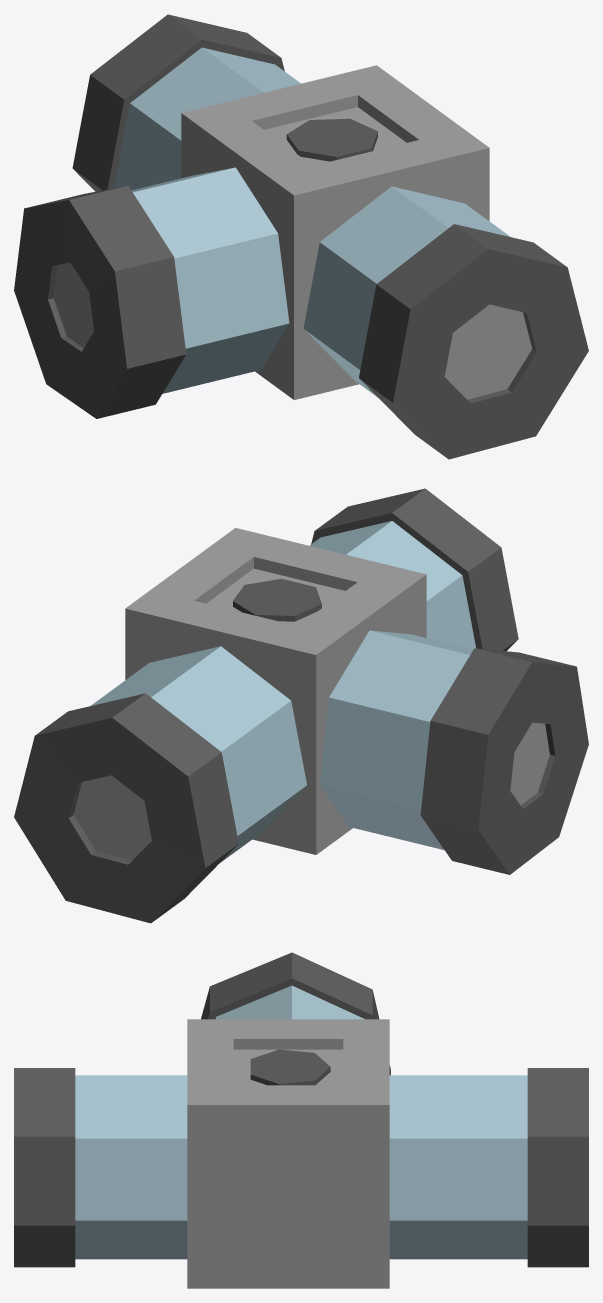
Rendered from fragment de tunnel 03 01.fbx.
3 views of the same model, one above another, from view 1: azimuth 30°, elevation 25°; view 2: azimuth 150°, elevation 25°; view 3: azimuth 270°, elevation 25° (orthographic). The views are drawn at different scales.
Parts seen in each view (by area): view 1: Cylinder.005, Cube, Cylinder.002, Cylinder.001, Cylinder, Cylinder.004, Cylinder.006; view 2: Cylinder.004, Cube, Cylinder.002, Cylinder.001, Cylinder, Cylinder.005, Cylinder.006; view 3: Cube, Cylinder.001, Cylinder.004, Cylinder.005, Cylinder.002, Cylinder, Cylinder.006.
Part boxes in pixels (left/top/right/bottom): Cylinder.005: left=359, top=224, right=588, bottom=459; Cube: left=181, top=65, right=489, bottom=399; Cylinder.002: left=14, top=185, right=186, bottom=418; Cylinder.001: left=114, top=47, right=510, bottom=397; Cylinder: left=132, top=167, right=289, bottom=393; Cylinder.004: left=72, top=14, right=284, bottom=191; Cylinder.006: left=286, top=118, right=377, bottom=161; Cylinder.004: left=14, top=693, right=238, bottom=923; Cube: left=125, top=528, right=426, bottom=854; Cylinder.002: left=420, top=648, right=588, bottom=874; Cylinder.001: left=91, top=521, right=475, bottom=863; Cylinder: left=320, top=630, right=473, bottom=849; Cylinder.005: left=311, top=488, right=518, bottom=651; Cylinder.006: left=233, top=579, right=321, bottom=621; Cube: left=187, top=1019, right=389, bottom=1288; Cylinder.001: left=75, top=1075, right=527, bottom=1259; Cylinder.004: left=527, top=1068, right=588, bottom=1267; Cylinder.005: left=14, top=1068, right=75, bottom=1267; Cylinder.002: left=201, top=952, right=390, bottom=1075; Cylinder: left=215, top=985, right=364, bottom=1019; Cylinder.006: left=250, top=1049, right=330, bottom=1085.
Size of the model in its own units: 393 by 213 by 598.
